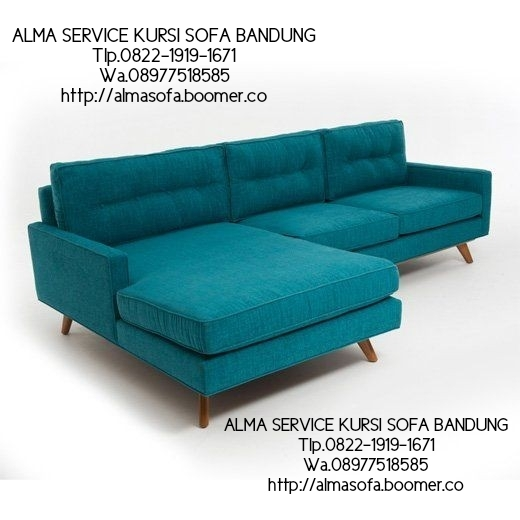sova: (22, 118, 495, 388)
